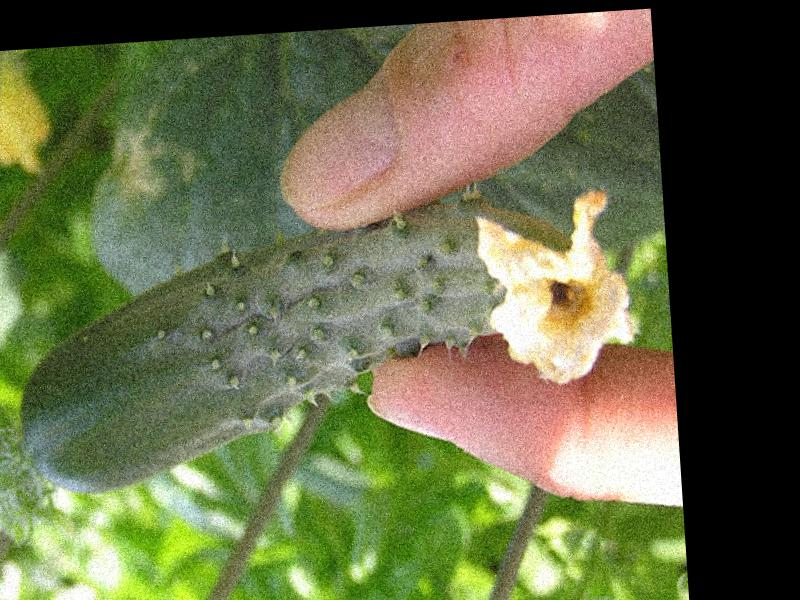Cucumber: (5, 188, 640, 495)
